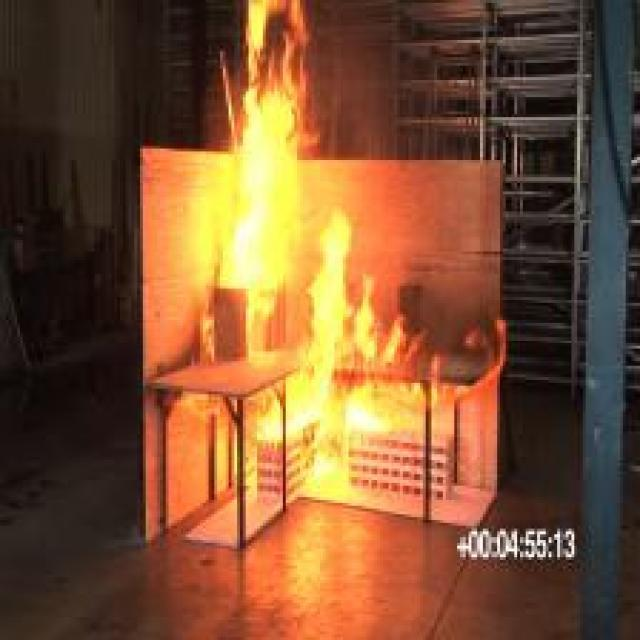Fire: (213, 0, 304, 288), (304, 218, 376, 366), (262, 380, 386, 437), (308, 444, 348, 490)
